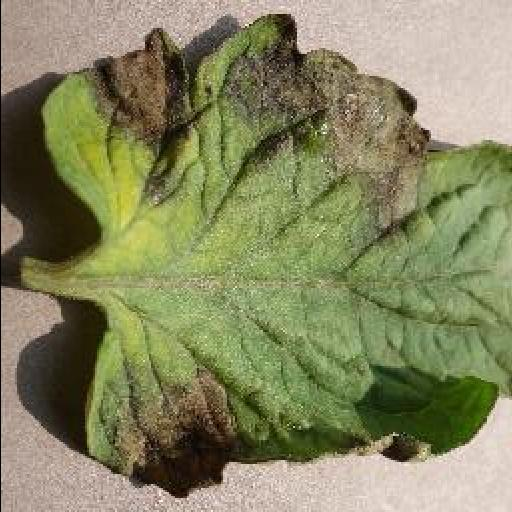disease_tomato: (36, 12, 512, 502)
